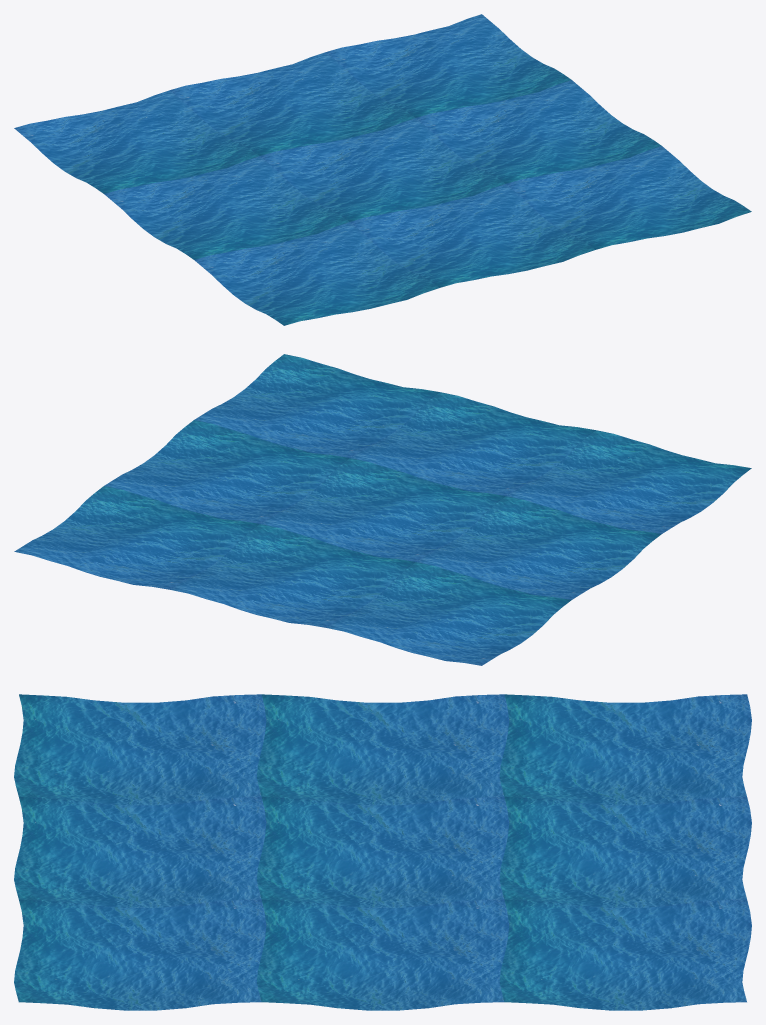
Rendered from ocean_000153.obj.
3 views of the same model, one above another, from view 1: azimuth 30°, elevation 25°; view 2: azimuth 150°, elevation 25°; view 3: azimuth 270°, elevation 25° (orthographic). The views are drawn at different scales.
Visible parts, largest first — view 1: Ocean_Plan.001; view 2: Ocean_Plan.001; view 3: Ocean_Plan.001.
Boxes of the visible parts, <box> form: Ocean_Plan.001: <box>14,14,751,325</box>; Ocean_Plan.001: <box>14,354,751,665</box>; Ocean_Plan.001: <box>14,694,751,1010</box>.
Size of the model in its own units: 109125 by 2213 by 110413.
1 material, 1 textured.
